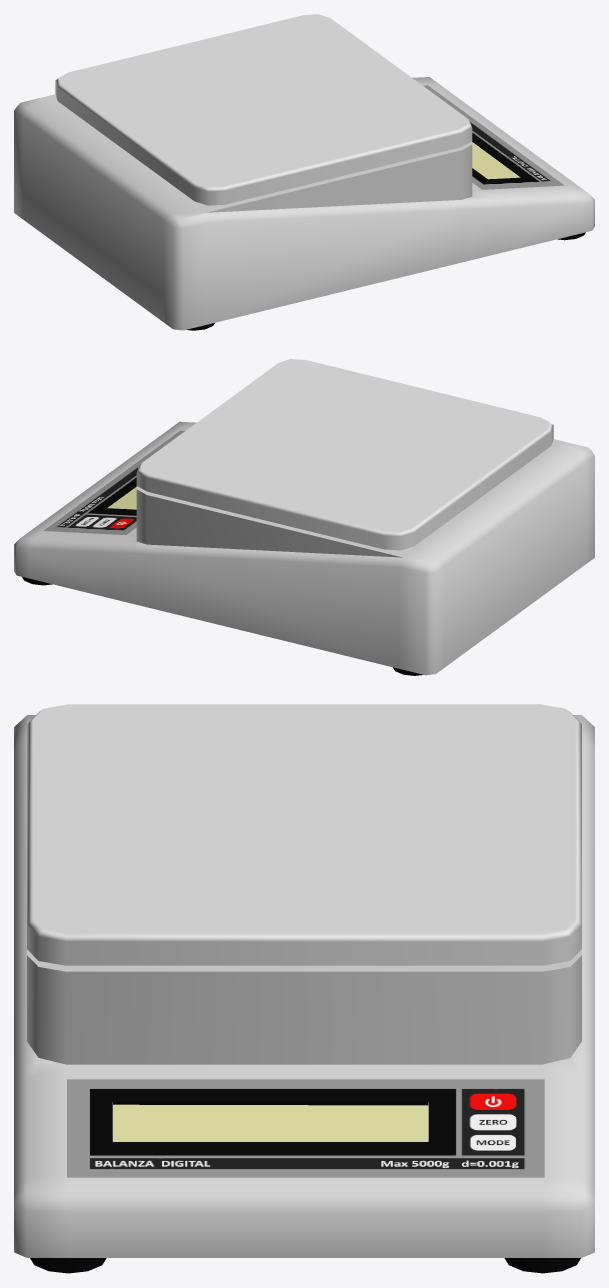
File: Balanza.dae
3 views of the same model, one above another, from view 1: azimuth 30°, elevation 25°; view 2: azimuth 150°, elevation 25°; view 3: azimuth 270°, elevation 25° (orthographic). The views are drawn at different scales.
Visible parts, largest first — view 1: Scale, Scale plate, Scale LCD; view 2: Scale, Scale plate; view 3: Scale, Scale plate, Scale LCD.
Part boxes in pixels (x1,y1,x2,y2): Scale: (14, 77, 594, 330); Scale plate: (55, 14, 472, 205); Scale LCD: (471, 141, 521, 179); Scale: (14, 421, 594, 675); Scale plate: (136, 359, 553, 550); Scale: (14, 715, 594, 1273); Scale plate: (27, 704, 581, 965); Scale LCD: (113, 1101, 428, 1141).
Bounding box in the file's own units: 0.2608 × 0.178 × 0.081.
6 materials, 1 textured.
